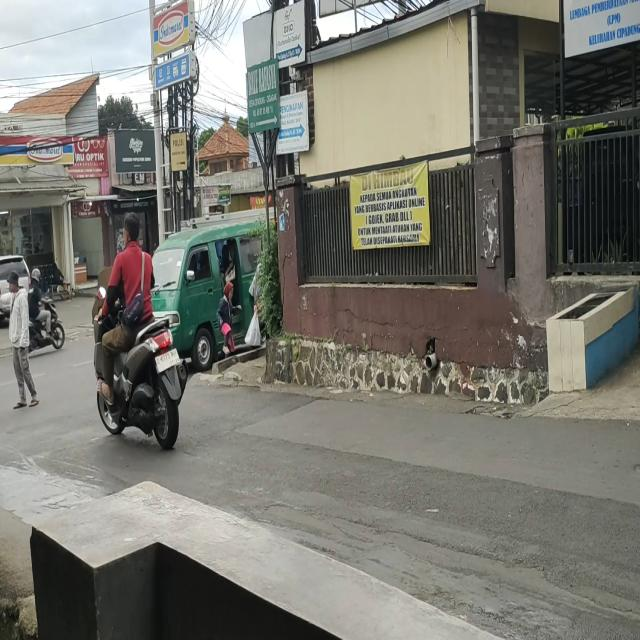no-helmet: (122, 208, 146, 250)
